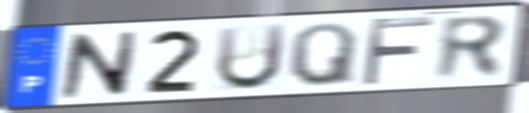2: (145, 28, 201, 94)
F: (358, 15, 437, 89)
N: (57, 29, 141, 101)
Q: (286, 21, 359, 88)
R: (434, 14, 509, 83)
U: (213, 21, 290, 93)
